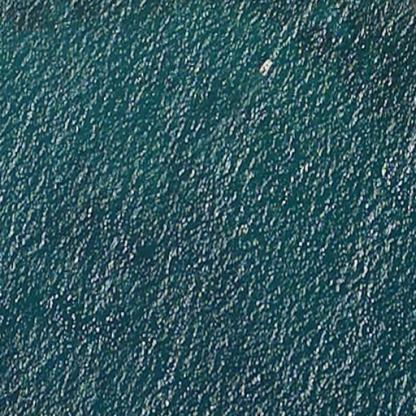ship: (242, 55, 282, 76)
